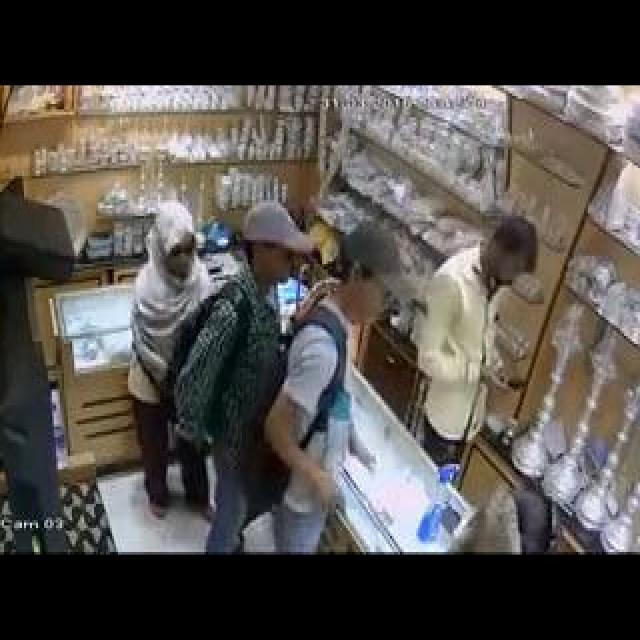Shoplifting: (109, 174, 430, 553)
